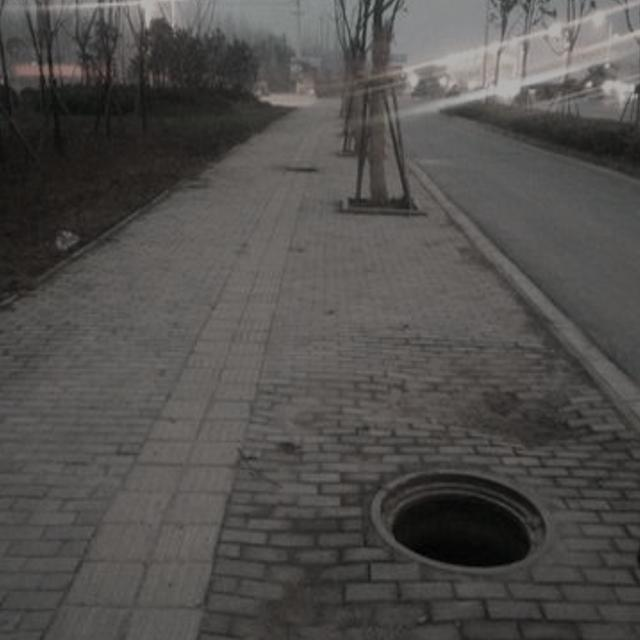lose: (347, 446, 569, 600)
